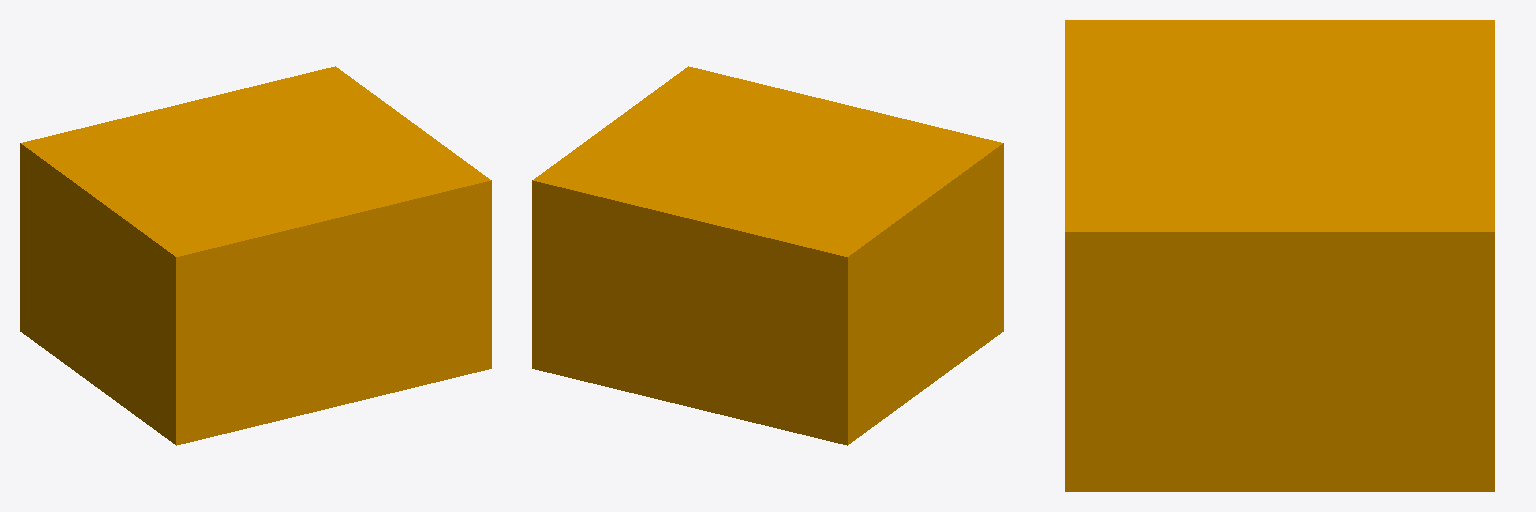
URDF robot description (2x2):
<?xml version='1.0' encoding='UTF-8'?>
<robot name="2x2">
  <link name="base_link">
    <inertial>
      <origin xyz="0.0 0.0 0.0" rpy="0.0 0.0 0.0"/>
      <mass value="0.01"/>
      <inertia ixx="0.1" ixy="0.0" ixz="0.0" iyy="0.1" iyz="0.0" izz="0.1"/>
    </inertial>
    <visual>
      <geometry>
        <box size="0.021 0.018 0.012"/>
      </geometry>
      <material name=""/>
      <origin xyz="0.0 0.0 0.0" rpy="0.0 0.0 0.0"/>
    </visual>
    <collision>
      <geometry>
        <box size="0.021 0.018 0.012"/>
      </geometry>
      <origin xyz="0.0 0.0 0.0" rpy="0.0 0.0 0.0"/>
    </collision>
  </link>
  <material name="">
    <color rgba="1. 1. 1. 1."/>
  </material>
  <contact>
    <lateral_friction value="1.0"/>
    <rolling_friction value="0.0"/>
    <contact_cfm value="0.0"/>
    <contact_erp value="1.0"/>
  </contact>
</robot>

--- What the picture shows (computed from the rendered views, not written in the file) ---
3 views of the same robot in one strip: view 1: azimuth 30°, elevation 25°; view 2: azimuth 150°, elevation 25°; view 3: azimuth 270°, elevation 25° (orthographic).
Model 2x2 with 1 links and 0 joints (none), rooted at base_link, posed every joint at zero.
Visible links, largest first — view 1: base_link; view 2: base_link; view 3: base_link.
Boxes of the visible links, box(x1,y1,x2,y2) form: base_link: box(20, 66, 491, 445); base_link: box(532, 66, 1003, 445); base_link: box(1065, 20, 1494, 491).
Size in the robot's own frame: 0.021 by 0.018 by 0.012 metres.
Geometry: primitives only (box / cylinder / sphere), no mesh files.